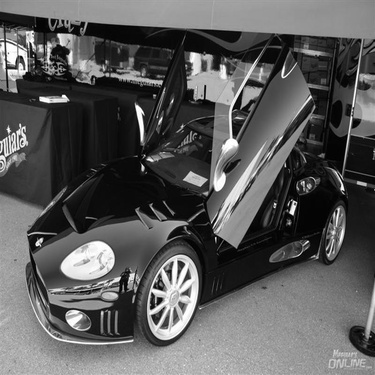car: (109, 40, 200, 86), (73, 54, 136, 97)
